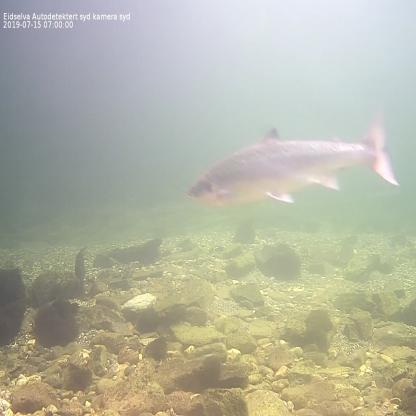salmon: (183, 102, 402, 207)
